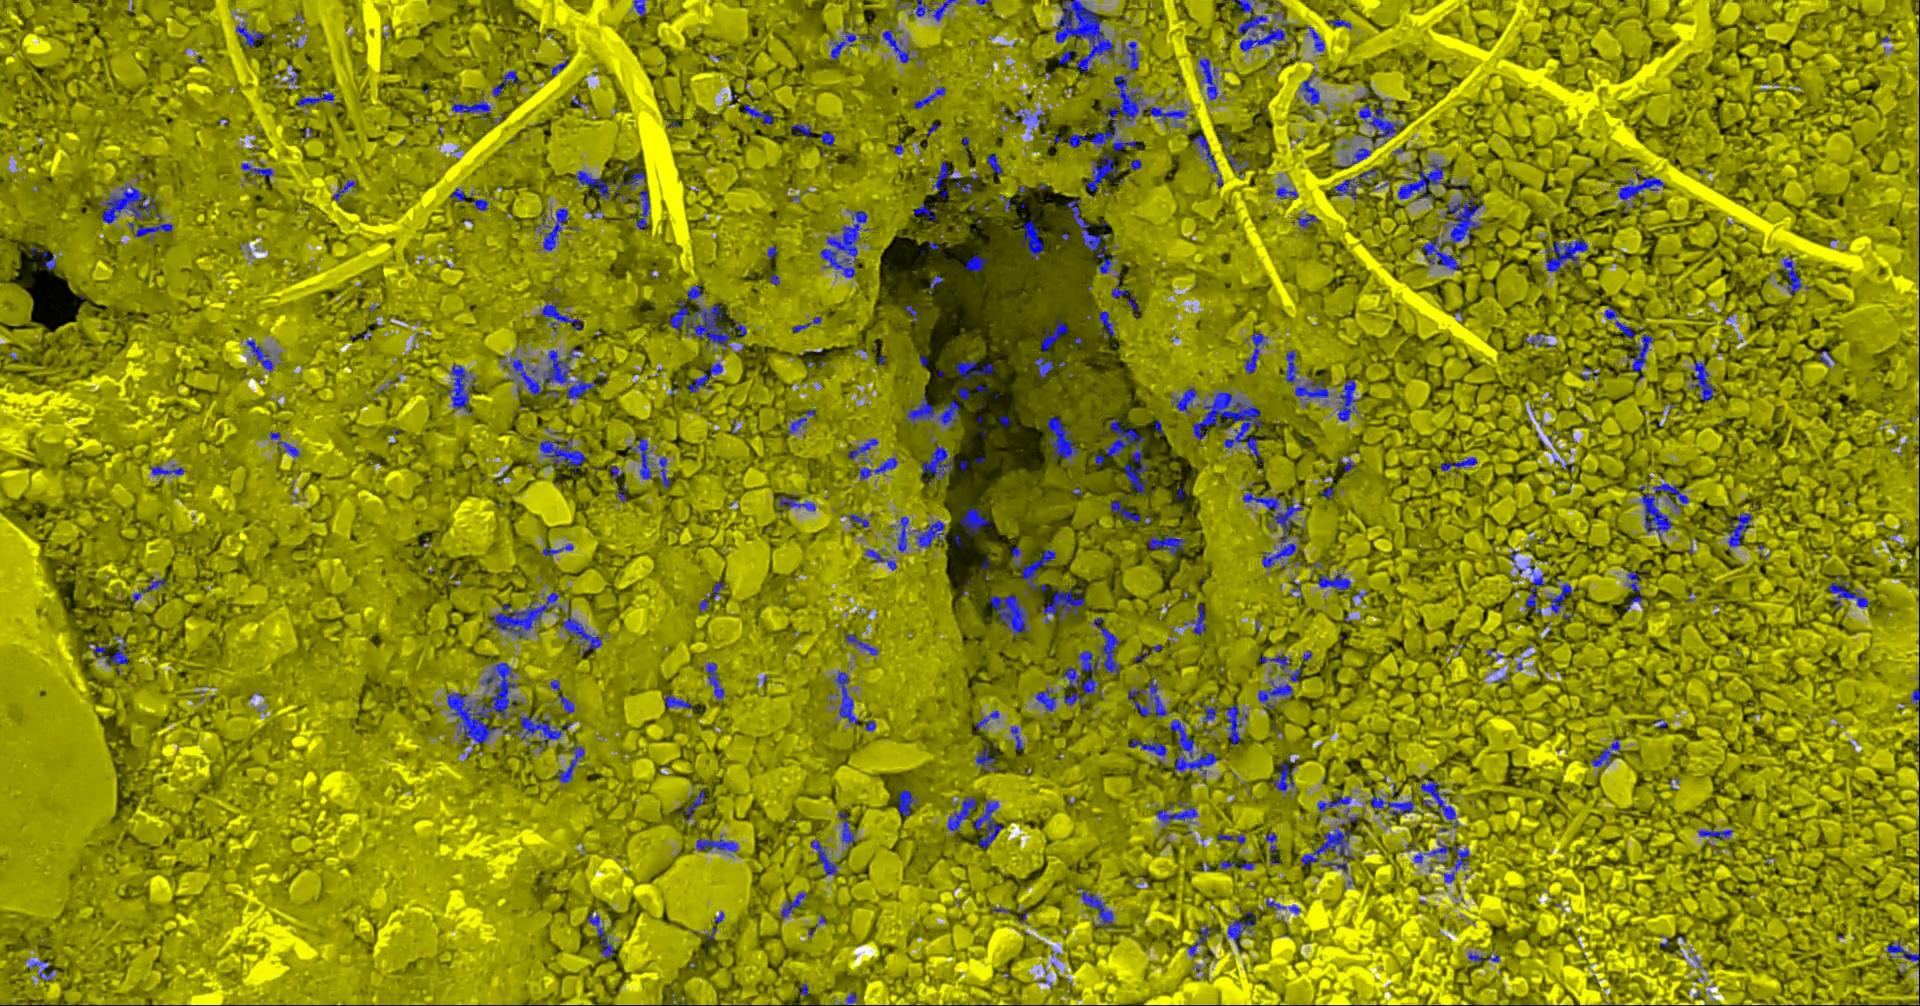ant: (1065, 198, 1115, 273), (1230, 0, 1290, 51), (1170, 719, 1217, 779), (1300, 822, 1354, 873), (1062, 650, 1100, 711), (1397, 159, 1449, 199), (1011, 546, 1055, 591), (1420, 779, 1458, 827), (535, 208, 578, 250), (561, 607, 601, 650), (1357, 105, 1403, 142), (516, 715, 561, 752), (989, 594, 1029, 636), (1128, 677, 1170, 716), (1191, 133, 1222, 187), (538, 438, 585, 471), (830, 669, 858, 724), (971, 799, 1002, 848), (1330, 168, 1377, 199), (1093, 616, 1119, 674), (1617, 169, 1665, 199), (931, 161, 971, 197), (1545, 238, 1587, 272), (1641, 492, 1671, 539), (91, 636, 128, 674), (1078, 888, 1112, 929), (1046, 417, 1079, 459), (1043, 589, 1084, 622), (1086, 152, 1117, 196), (1111, 269, 1139, 318), (447, 363, 475, 412), (830, 27, 872, 58), (587, 911, 615, 958), (540, 301, 582, 332), (919, 446, 954, 483), (1827, 579, 1869, 608), (1317, 794, 1357, 823), (1625, 334, 1652, 379), (1227, 909, 1255, 951), (1223, 135, 1250, 177), (575, 170, 615, 198), (687, 362, 723, 392), (1603, 305, 1634, 338), (1652, 481, 1688, 511), (556, 746, 584, 782), (910, 0, 957, 22), (1243, 332, 1267, 373), (1156, 800, 1197, 824), (1257, 680, 1291, 709), (947, 796, 977, 831), (910, 520, 946, 547), (1782, 257, 1808, 293), (1148, 528, 1185, 555), (627, 438, 651, 479), (881, 29, 910, 62), (1336, 379, 1359, 420), (959, 507, 993, 535), (810, 840, 837, 875), (1020, 218, 1043, 259), (1690, 359, 1713, 400), (904, 395, 935, 426), (1040, 318, 1068, 351), (1294, 379, 1328, 405), (1525, 573, 1547, 615), (1369, 795, 1413, 815), (1547, 577, 1571, 614), (1187, 923, 1214, 956), (1886, 940, 1919, 967), (1225, 704, 1247, 744), (132, 575, 166, 601), (615, 171, 645, 199), (491, 70, 523, 97), (246, 339, 273, 371), (678, 788, 705, 819), (1129, 738, 1166, 761), (1727, 512, 1751, 546), (858, 457, 897, 479), (1413, 840, 1448, 862), (1591, 738, 1619, 766), (1199, 57, 1217, 100), (844, 633, 877, 655), (705, 662, 724, 701), (1171, 387, 1197, 415), (787, 408, 815, 434), (695, 833, 737, 851), (780, 890, 806, 918), (269, 431, 298, 456), (847, 438, 877, 462), (1272, 760, 1297, 790), (955, 359, 993, 379), (777, 494, 815, 513), (1625, 570, 1643, 611), (1298, 72, 1319, 105), (863, 549, 897, 570), (837, 810, 857, 845), (913, 86, 945, 108), (1109, 500, 1140, 522), (296, 89, 334, 107), (235, 22, 263, 46), (1317, 569, 1350, 589), (743, 103, 773, 124), (937, 400, 959, 428), (451, 102, 490, 117), (1265, 897, 1300, 913), (331, 179, 356, 203), (1265, 831, 1281, 865), (635, 189, 649, 229), (975, 746, 997, 771), (898, 789, 918, 815), (27, 960, 53, 981), (1439, 456, 1477, 470), (240, 161, 272, 178), (1258, 653, 1289, 669), (1035, 687, 1055, 711), (974, 710, 998, 730), (1305, 25, 1324, 51), (1034, 352, 1051, 379), (791, 316, 822, 332), (897, 516, 909, 551), (541, 542, 573, 556), (1191, 602, 1205, 634), (1347, 147, 1371, 165), (657, 456, 670, 486), (663, 694, 693, 708), (1697, 829, 1733, 841), (1285, 351, 1298, 384), (1451, 845, 1468, 870), (913, 202, 935, 221), (1525, 333, 1554, 347), (150, 464, 184, 475), (1098, 310, 1114, 335), (1217, 859, 1255, 869), (965, 254, 988, 271), (1291, 213, 1318, 227), (843, 513, 869, 527), (1010, 727, 1023, 749), (557, 694, 574, 713), (1057, 50, 1078, 64), (791, 122, 813, 136), (551, 58, 568, 76), (985, 154, 1001, 173), (1217, 833, 1244, 843), (1275, 185, 1297, 198), (1324, 18, 1351, 28), (709, 580, 724, 598), (928, 274, 942, 293), (686, 285, 702, 300), (608, 465, 623, 481), (41, 251, 55, 269), (1580, 366, 1599, 379), (616, 481, 627, 502), (1203, 705, 1217, 721), (819, 131, 834, 145), (450, 187, 465, 201), (841, 991, 856, 1005), (1818, 349, 1831, 366), (632, 0, 645, 15), (1289, 666, 1302, 681), (1910, 688, 1919, 710), (472, 198, 488, 210), (1129, 158, 1142, 170), (957, 387, 969, 399)
